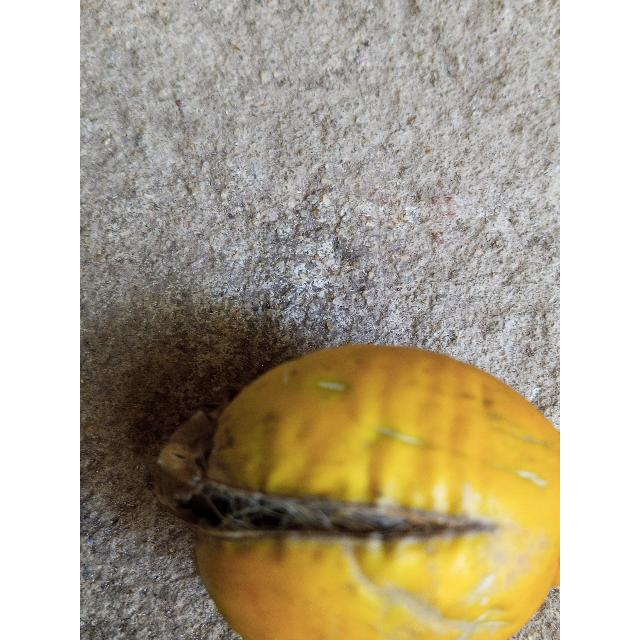damaged: (156, 344, 560, 640)
